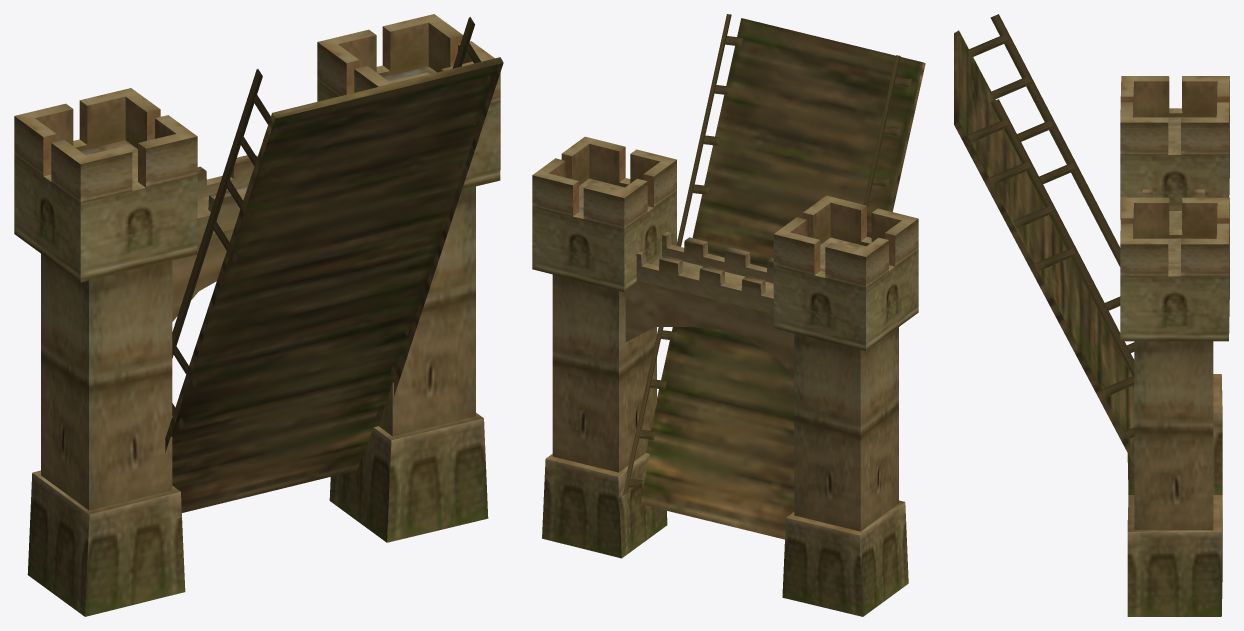
Rendered from gate_02_b_SpWait.FBX.
The picture shows the model from 3 angles, left to right: view 1: azimuth 30°, elevation 25°; view 2: azimuth 150°, elevation 25°; view 3: azimuth 270°, elevation 25°; orthographic projection. The views are drawn at different scales.
Parts seen in each view (by area): view 1: gate_02_b; view 2: gate_02_b; view 3: gate_02_b.
Part boxes in pixels (<box>): gate_02_b: <box>14,14,503,616</box>; gate_02_b: <box>532,14,925,616</box>; gate_02_b: <box>954,14,1229,616</box>.
Size of the model in its own units: 1279 by 1698 by 886.
2 materials, 2 textured.
